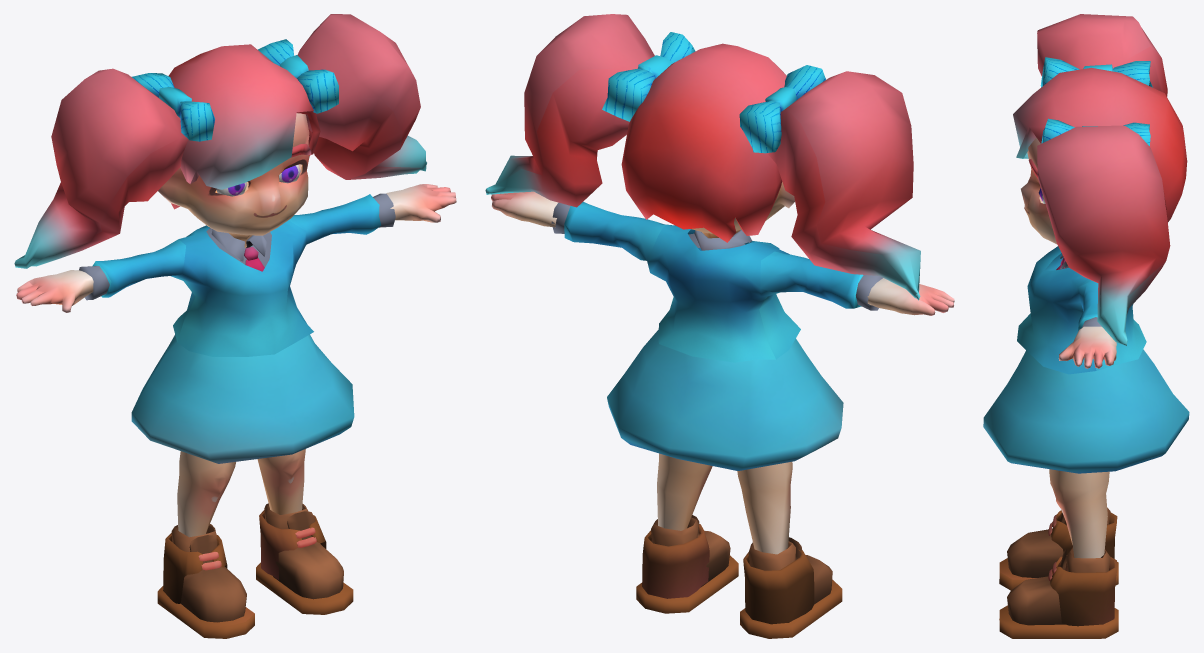
The model's file is manager4_230406 1.fbx.
3 views of the same model, side by side, from view 1: azimuth 30°, elevation 25°; view 2: azimuth 150°, elevation 25°; view 3: azimuth 270°, elevation 25° (orthographic). The views are drawn at different scales.
Parts seen in each view (by area): view 1: Cube.018; view 2: Cube.018; view 3: Cube.018.
Boxes of the visible parts, left/top/right/bottom form: Cube.018: left=14, top=14, right=456, bottom=638; Cube.018: left=485, top=14, right=954, bottom=638; Cube.018: left=983, top=14, right=1189, bottom=638.
Bounding box in the file's own units: 205 × 242 × 85.29.
